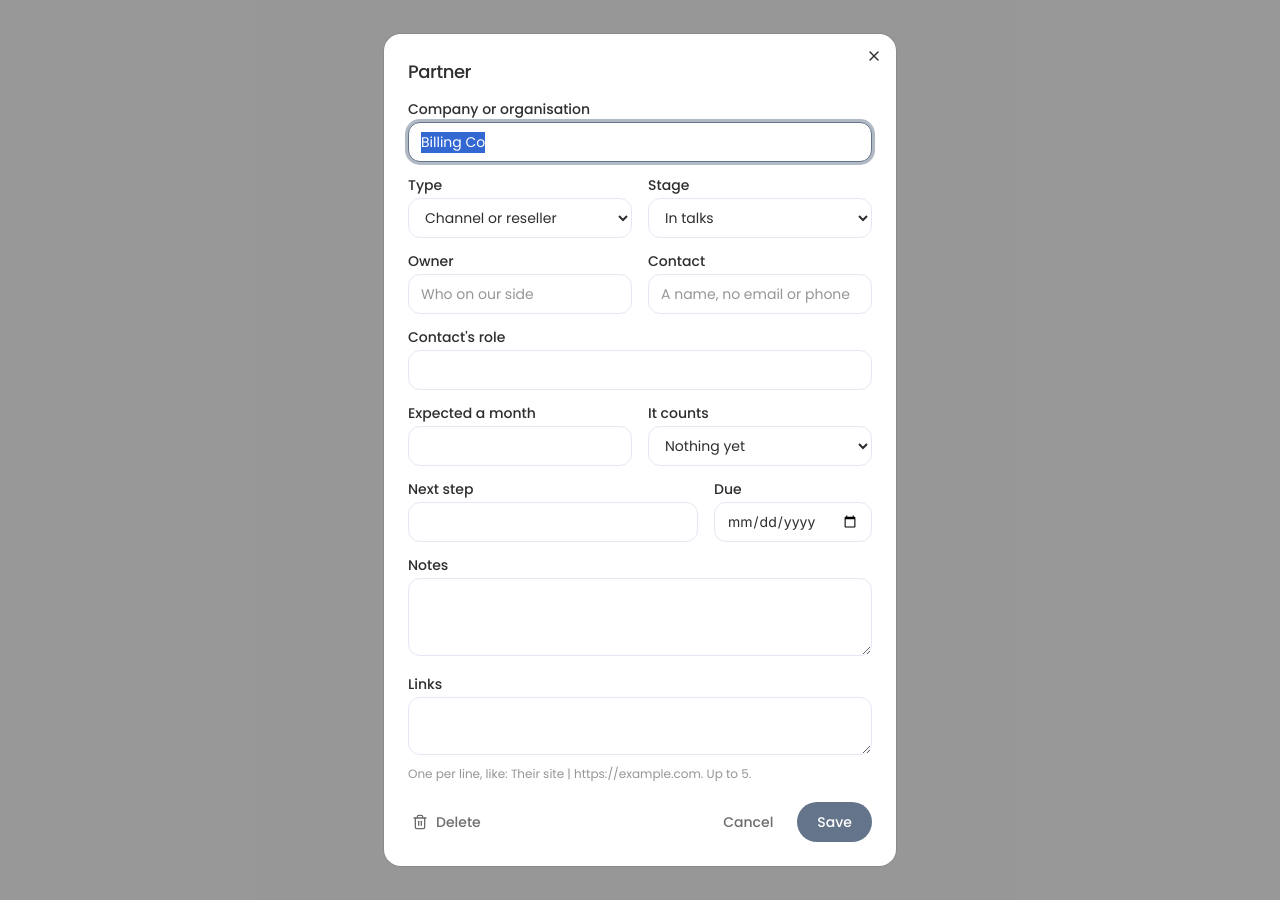
Test: the editor › the server's reason is shown, and the editor stays open
The image size is (1280, 900).
In the text box labelled "Notes": (640, 617) x1=408 y1=578 x2=872 y2=656, type "x"
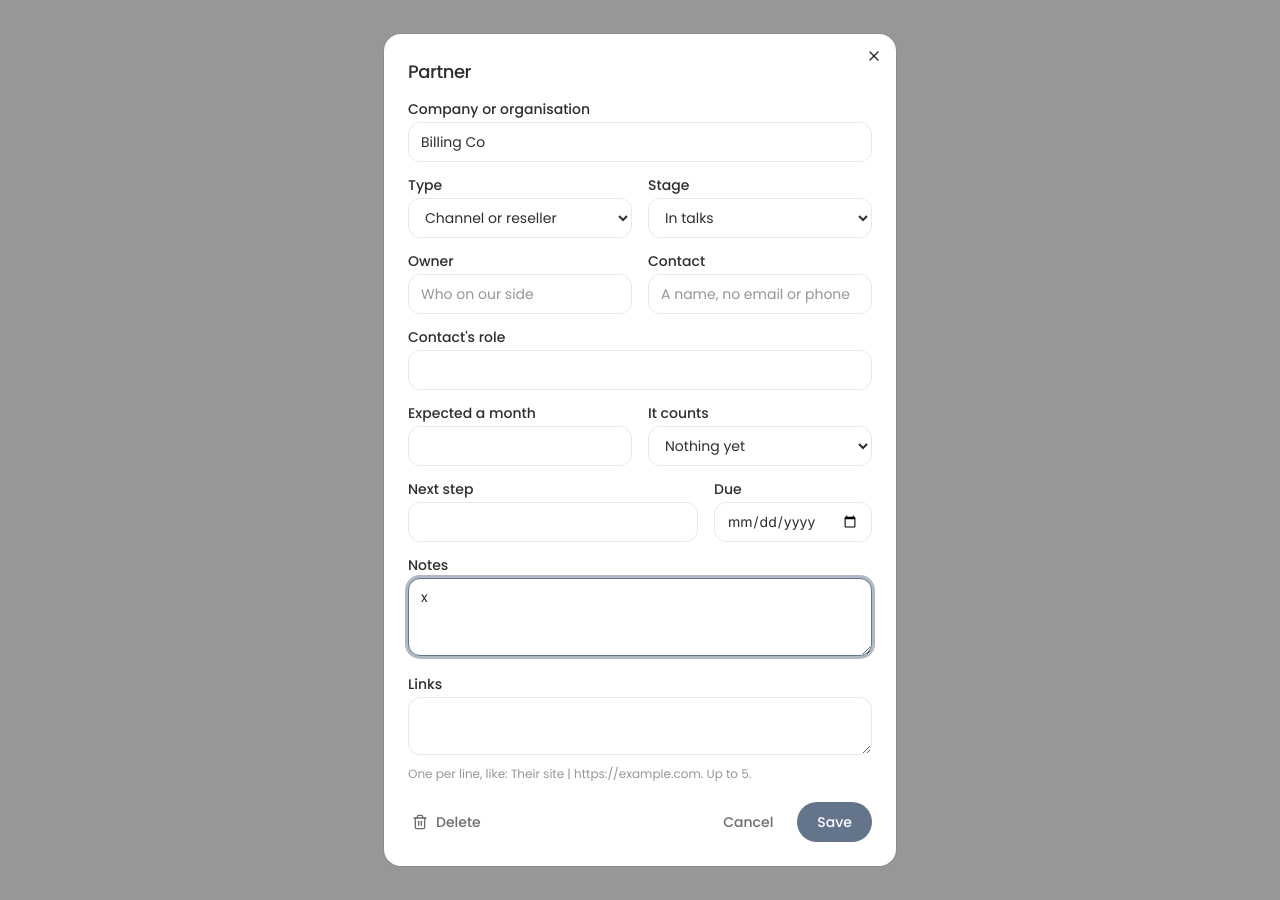
Click the button "Save": (835, 822) x1=797 y1=802 x2=872 y2=842
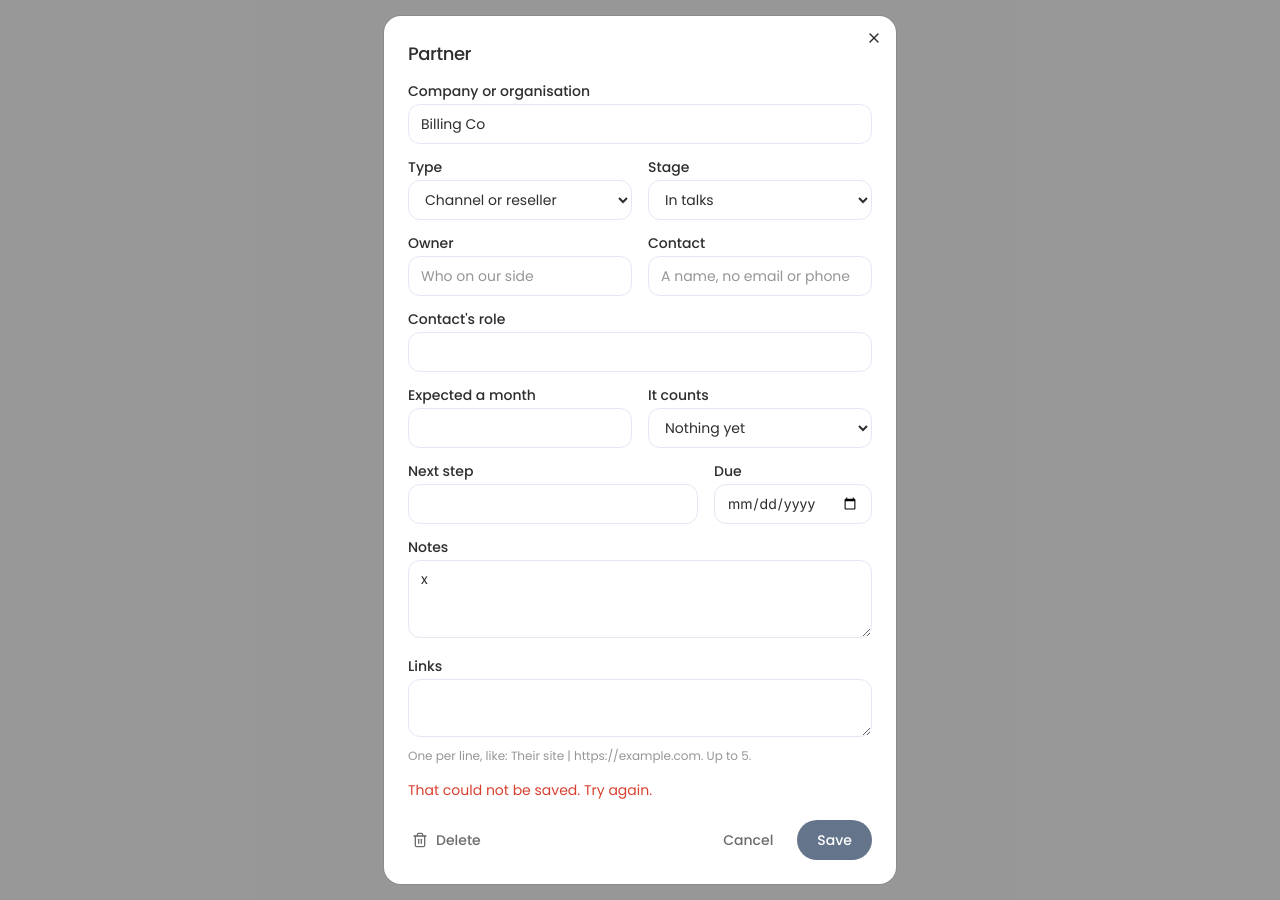
Expected: the message "That could not be saved. Try again." is shown, x1=408 y1=780 x2=652 y2=800
